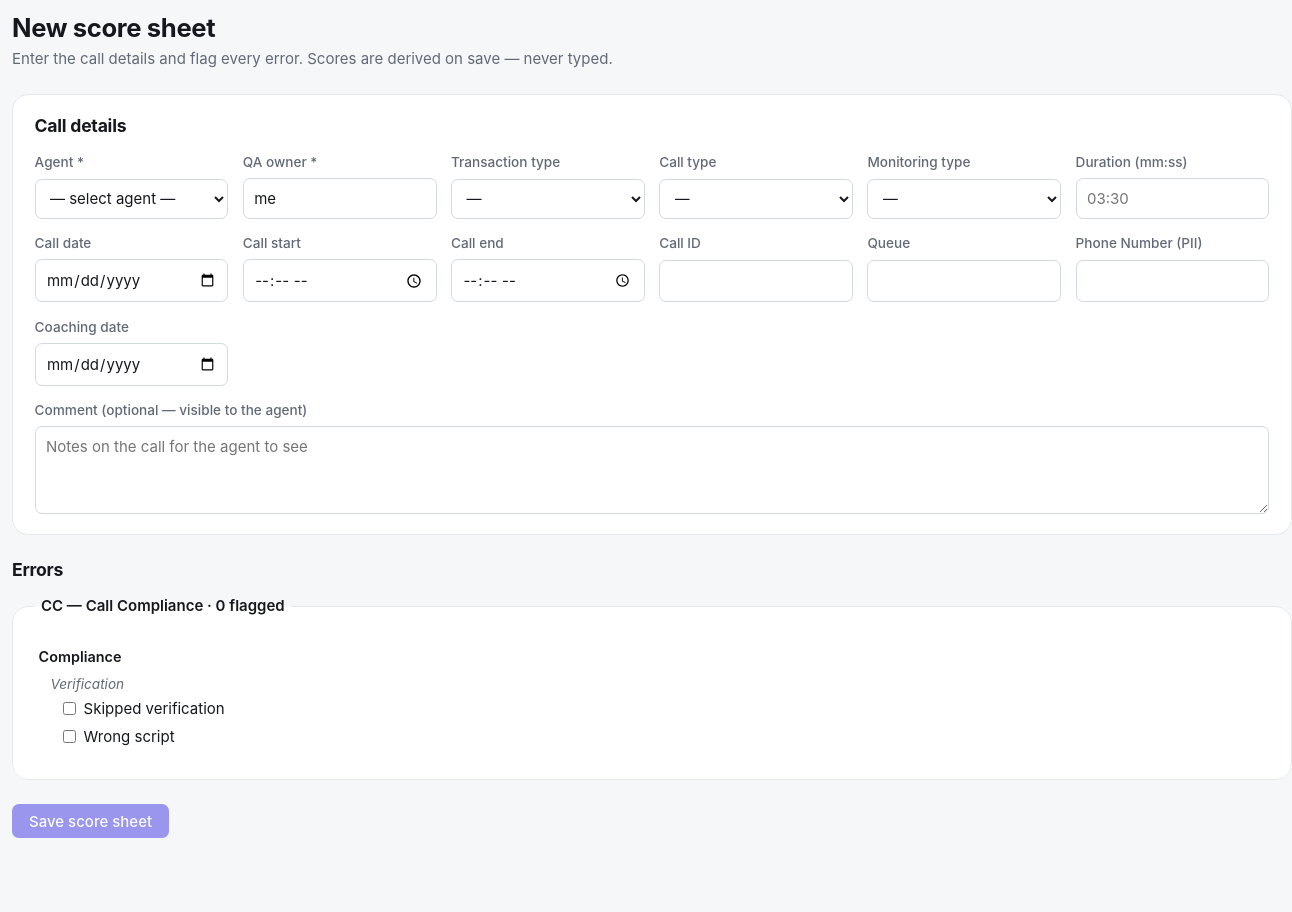
ScoreSheetForm (form → derivation boundary) › keeps the sheet filled when the save fails
This screenshot has width=1292, height=912.
Select "Test Agent (5001)" in the dropdown labelled "Agent" at (132, 199), box [35, 179, 228, 219]
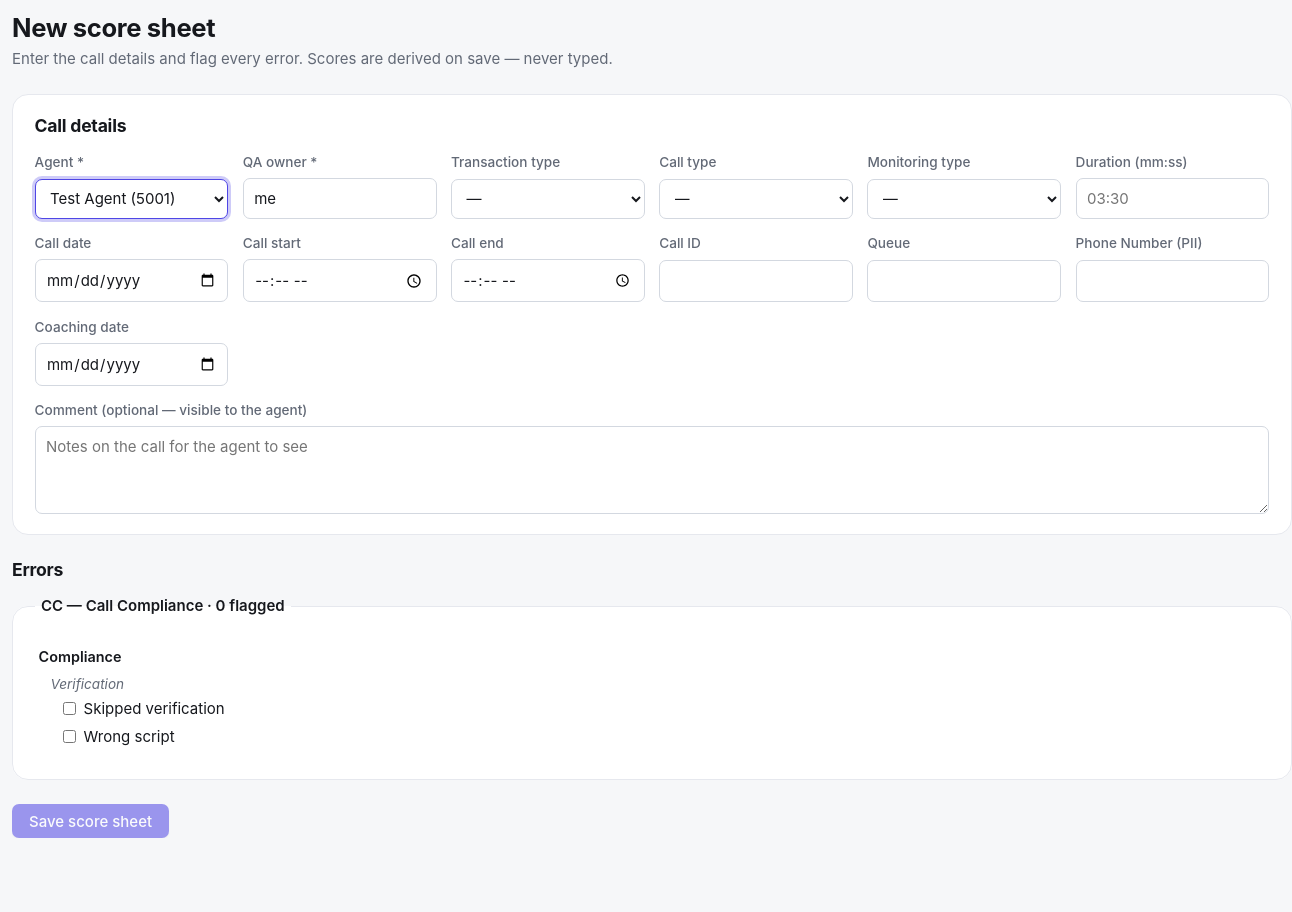
Type "2025-07-15" into the date field named "callDate" at (132, 281), box [35, 259, 228, 302]
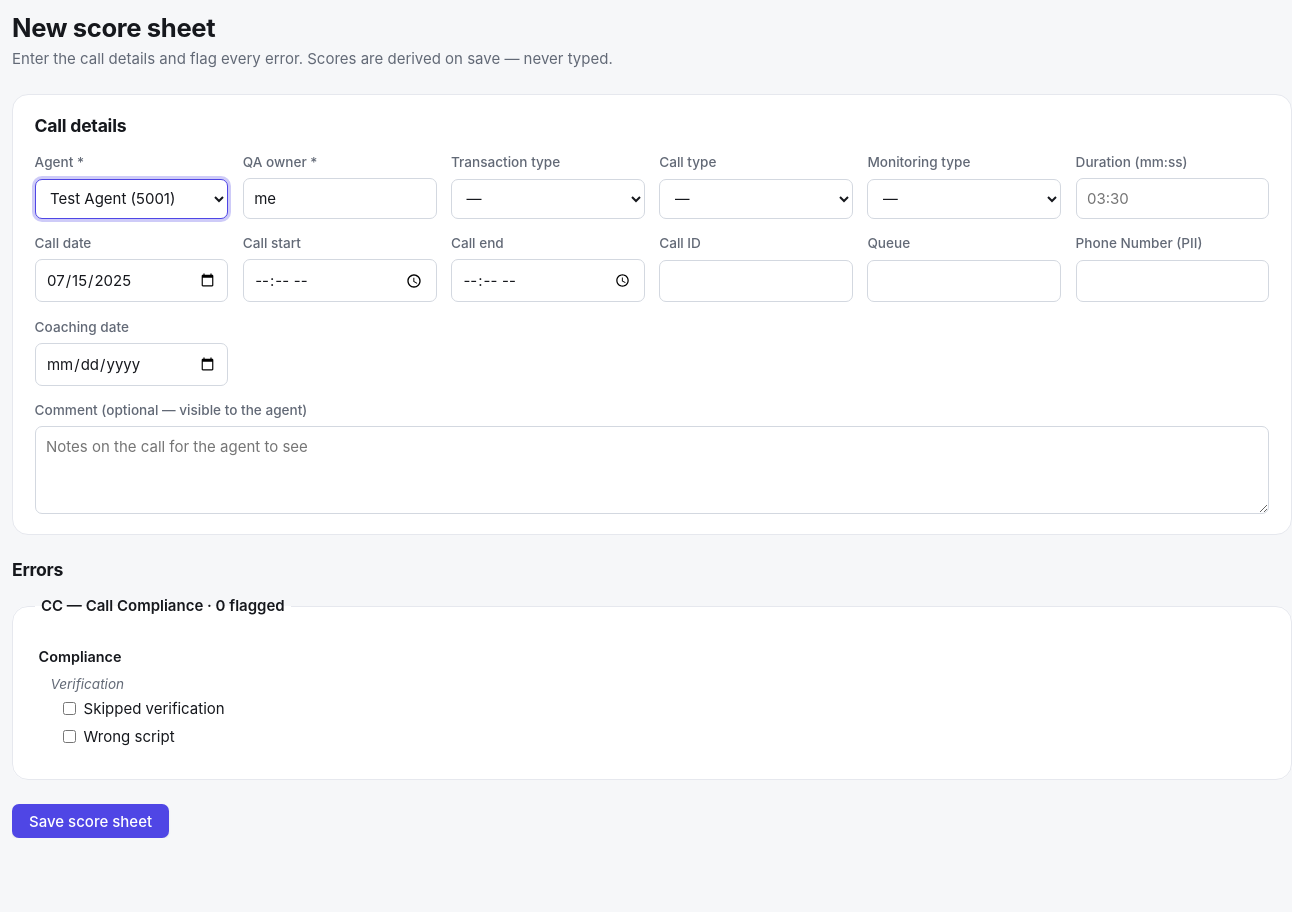
Click the checkbox named "reason-1000" at (69, 709), box [63, 702, 76, 715]
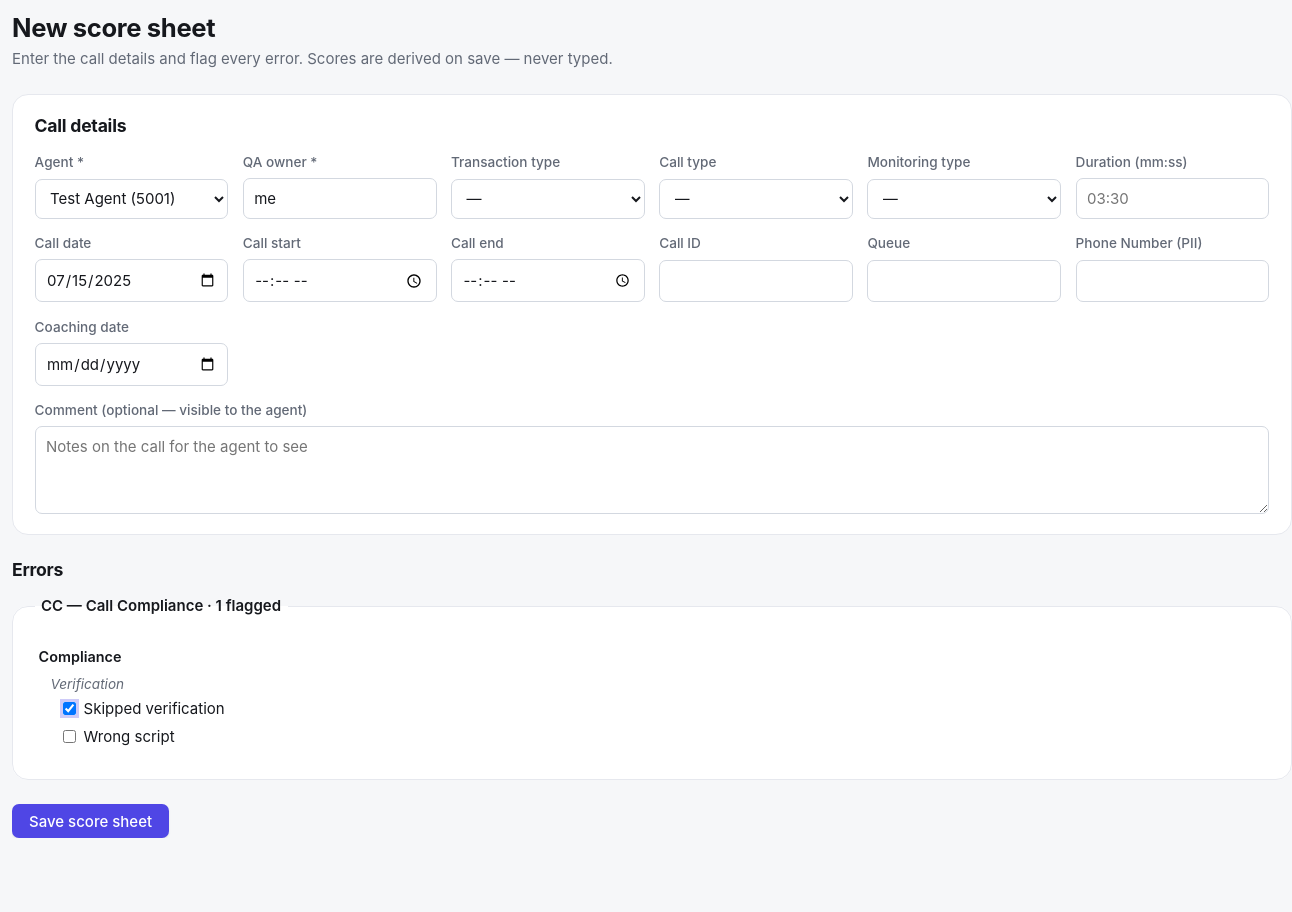
Click the button "Save score sheet" at (91, 821), box [12, 804, 169, 838]
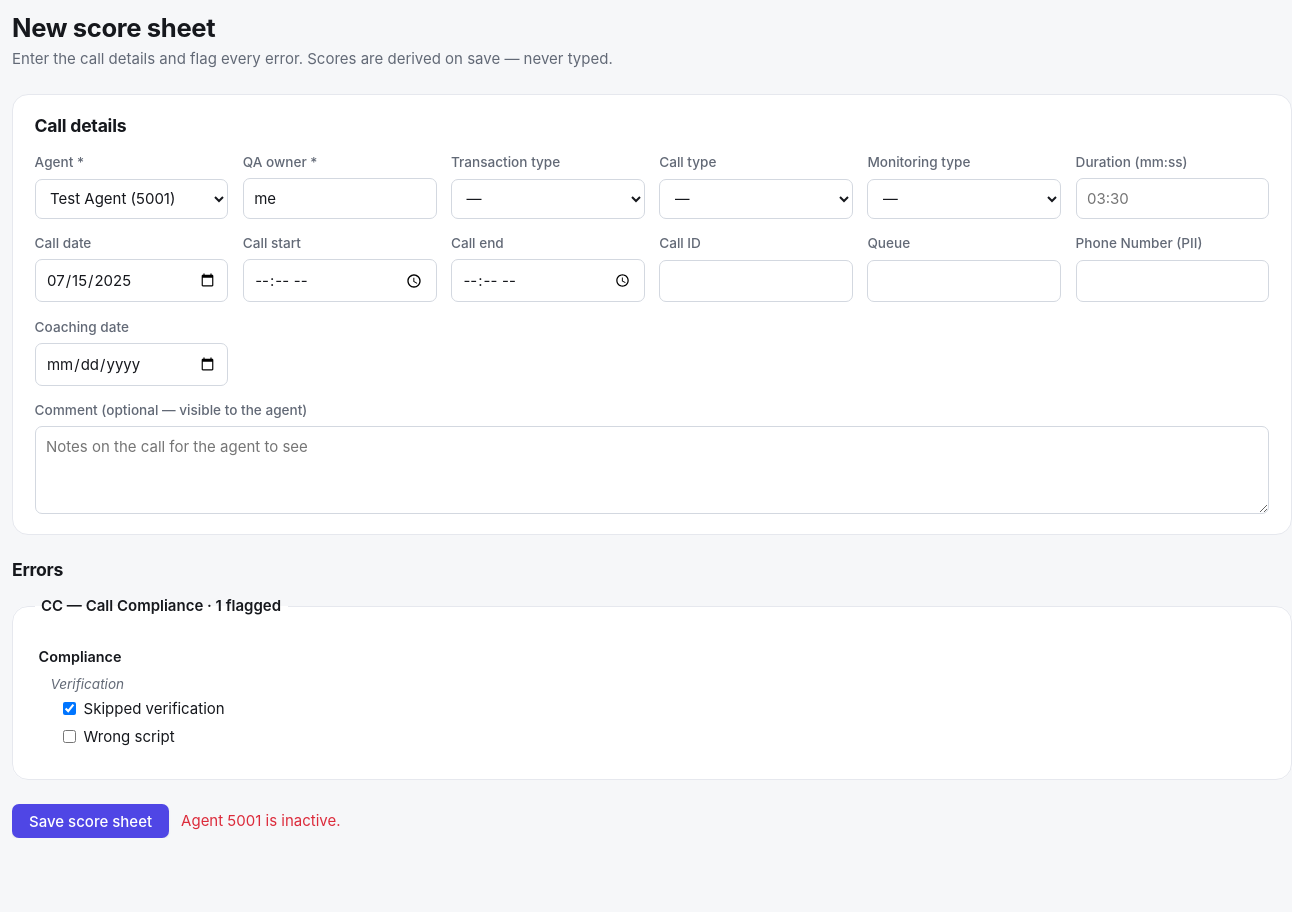
Result: the checkbox named "reason-1000" is checked at [63, 702, 76, 715]
Result: the message shows "inactive" at [181, 812, 340, 830]
